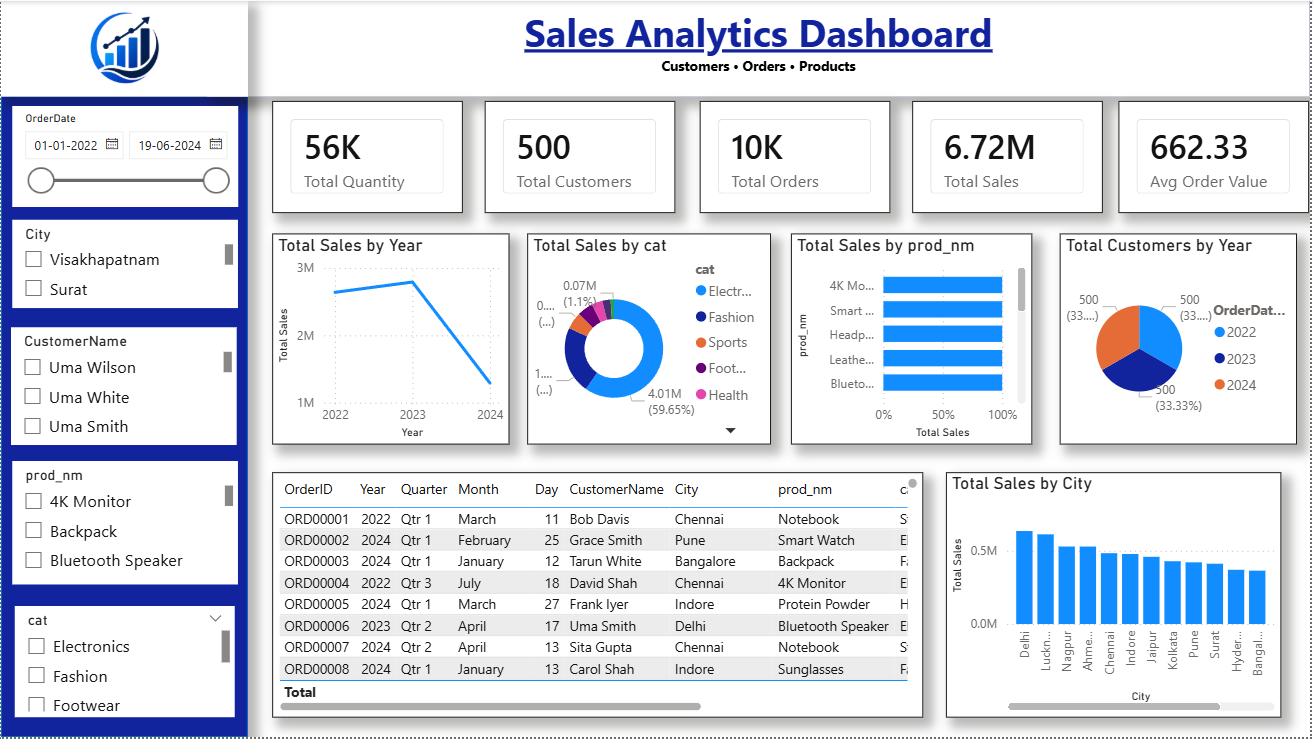

Layout of this report page (visuals, bound fields, positions):
{"tool":"powerbi","page":{"name":"Page 1","canvas":[1280,720],"ordinal":0},"visuals":[{"type":"shape","box":[0,93.3,241.5,627.1],"z":0},{"type":"shape","box":[0,0,1280.3,93.3],"z":1000},{"type":"textbox","box":[201.7,0,1078.6,93.3],"z":2000},{"type":"image","box":[0,0,241.5,93.3],"z":3000},{"type":"slicer","fields":{"Values":["Orders.OrderDate"]},"box":[11,102.9,220.9,98.8],"z":4000},{"type":"slicer","fields":{"Values":["Customers.City"]},"box":[11,214.1,220.9,86.4],"z":5000},{"type":"slicer","fields":{"Values":["Customers.CustomerName"]},"box":[9.6,319.7,220.9,115.3],"z":6000},{"type":"slicer","fields":{"Values":["Products.prod_nm"]},"box":[11,450.1,220.9,120.8],"z":7000},{"type":"slicer","fields":{"Values":["Products.cat"]},"box":[13.7,591.4,215.4,108.4],"z":8000},{"type":"cardVisual","fields":{"Data":["Customers.Total Sales"]},"box":[891.9,97.4,186.6,109.8],"z":9000},{"type":"cardVisual","fields":{"Data":["Customers.Total Orders"]},"box":[683.4,97.4,186.6,109.8],"z":10000},{"type":"cardVisual","fields":{"Data":["Customers.Total Customers"]},"box":[473.4,97.4,186.6,109.8],"z":11000},{"type":"cardVisual","fields":{"Data":["Customers.Total Quantity"]},"box":[264.8,97.4,186.6,109.8],"z":12000},{"type":"cardVisual","fields":{"Data":["Customers.Avg Order Value"]},"box":[1093.7,97.4,186.6,109.8],"z":13000},{"type":"lineChart","fields":{"Category":["Orders.OrderDate.Variation.Date Hierarchy.Year","Orders.OrderDate.Variation.Date Hierarchy.Quarter","Orders.OrderDate.Variation.Date Hierarchy.Month","Orders.OrderDate.Variation.Date Hierarchy.Day"],"Y":["Customers.Total Sales"]},"box":[265.4,227.4,232.3,206.7],"z":14000},{"type":"donutChart","fields":{"Category":["Products.cat"],"Y":["Customers.Total Sales"]},"box":[514.8,227.4,238.5,206.7],"z":15000},{"type":"hundredPercentStackedBarChart","fields":{"Category":["Products.prod_nm"],"Y":["Customers.Total Sales"]},"box":[772.8,227.4,236,206.7],"z":16000},{"type":"columnChart","fields":{"Category":["Customers.City"],"Y":["Customers.Total Sales"]},"box":[924.5,461,327.7,239.7],"z":17000},{"type":"tableEx","fields":{"Values":["Orders.OrderID","Orders.OrderDate.Variation.Date Hierarchy.Year","Orders.OrderDate.Variation.Date Hierarchy.Quarter","Orders.OrderDate.Variation.Date Hierarchy.Month","Orders.OrderDate.Variation.Date Hierarchy.Day","Customers.CustomerName","Customers.City","Products.prod_nm","Products.cat","Sum(Orders.Quantity)","Sum(Orders.TotalAmount)"]},"box":[265.4,461,637.1,239.7],"z":18000},{"type":"pieChart","fields":{"Category":["Orders.OrderDate.Variation.Date Hierarchy.Year","Orders.OrderDate.Variation.Date Hierarchy.Quarter","Orders.OrderDate.Variation.Date Hierarchy.Month","Orders.OrderDate.Variation.Date Hierarchy.Day","Customers.CustomerName","Customers.CustomerID","Products.prod_id"],"Y":["Customers.Total Customers"]},"box":[1035.7,227.4,232.3,206.7],"z":19000}]}

Visuals, with their boxes in screenshot pixels (x1, y1, x2, y2), scaled from the page's 1280x720 canvas onto the 1313x744 screenshot:
shape: Rect(0, 96, 248, 743)
shape: Rect(0, 0, 1312, 96)
textbox: Rect(207, 0, 1312, 96)
image: Rect(0, 0, 248, 96)
slicer - Orders.OrderDate: Rect(11, 106, 238, 208)
slicer - Customers.City: Rect(11, 221, 238, 311)
slicer - Customers.CustomerName: Rect(10, 330, 236, 450)
slicer - Products.prod_nm: Rect(11, 465, 238, 590)
slicer - Products.cat: Rect(14, 611, 235, 723)
cardVisual - Customers.Total Sales: Rect(915, 101, 1106, 214)
cardVisual - Customers.Total Orders: Rect(701, 101, 892, 214)
cardVisual - Customers.Total Customers: Rect(486, 101, 677, 214)
cardVisual - Customers.Total Quantity: Rect(272, 101, 463, 214)
cardVisual - Customers.Avg Order Value: Rect(1122, 101, 1312, 214)
lineChart - Orders.OrderDate.Variation.Date Hierarchy.Year x Orders.OrderDate.Variation.Date Hierarchy.Quarter: Rect(272, 235, 511, 449)
donutChart - Products.cat x Customers.Total Sales: Rect(528, 235, 773, 449)
hundredPercentStackedBarChart - Products.prod_nm x Customers.Total Sales: Rect(793, 235, 1035, 449)
columnChart - Customers.City x Customers.Total Sales: Rect(948, 476, 1284, 724)
tableEx - Orders.OrderID x Orders.OrderDate.Variation.Date Hierarchy.Year: Rect(272, 476, 926, 724)
pieChart - Orders.OrderDate.Variation.Date Hierarchy.Year x Orders.OrderDate.Variation.Date Hierarchy.Quarter: Rect(1062, 235, 1301, 449)
